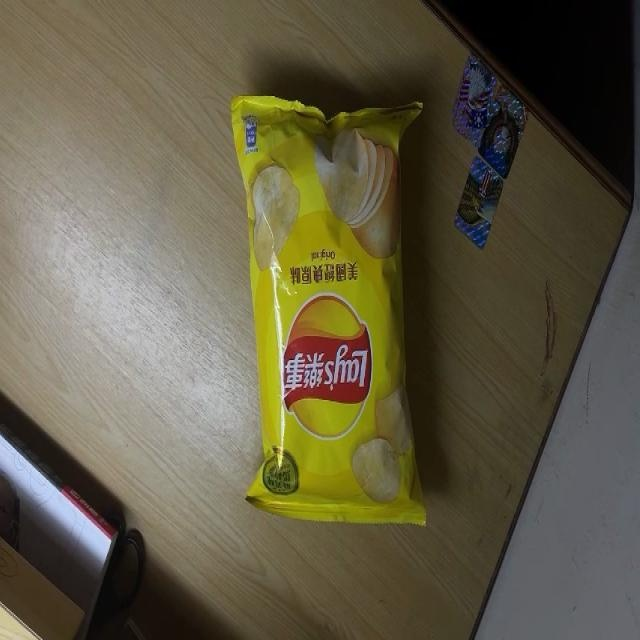Lay-s-original: (228, 94, 429, 529)
